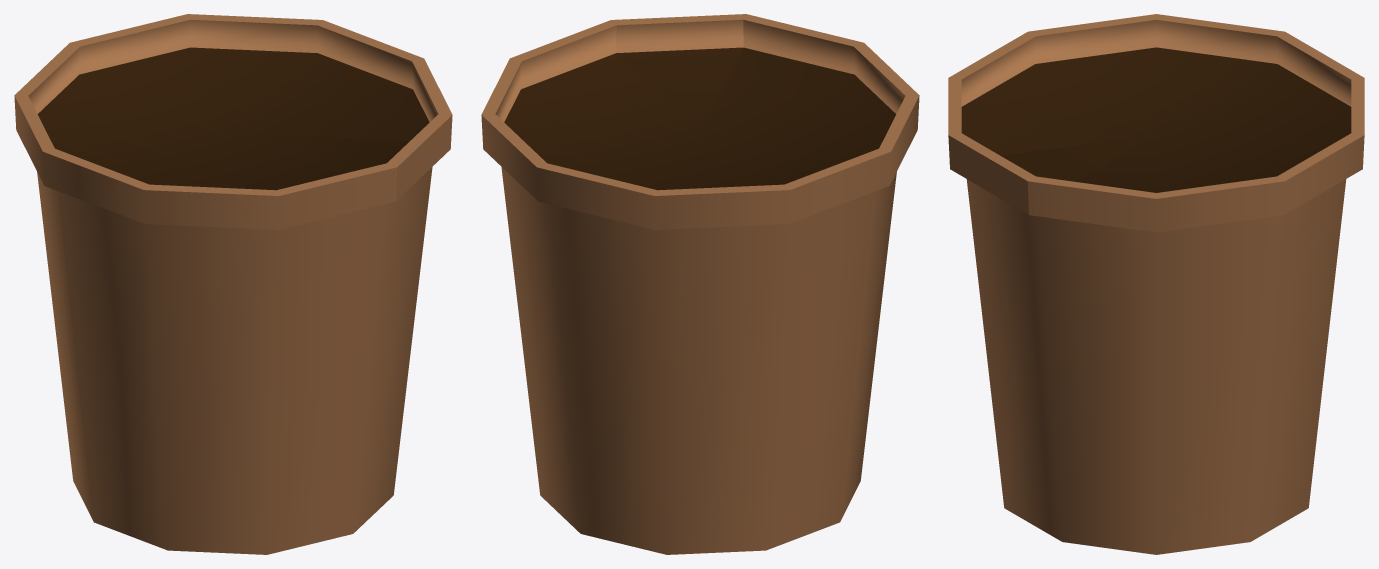
The model's file is flowerpot_01.fbx.
3 views of the same model, side by side, from view 1: azimuth 30°, elevation 25°; view 2: azimuth 150°, elevation 25°; view 3: azimuth 270°, elevation 25° (orthographic).
Parts seen in each view (by area): view 1: FlowerPot; view 2: FlowerPot; view 3: FlowerPot.
Boxes of the visible parts, box(x1,y1,x2,y2) form: FlowerPot: box(14, 14, 452, 554); FlowerPot: box(481, 14, 919, 554); FlowerPot: box(948, 14, 1364, 554).
Bounding box in the file's own units: 41.49 × 39.84 × 39.46.
